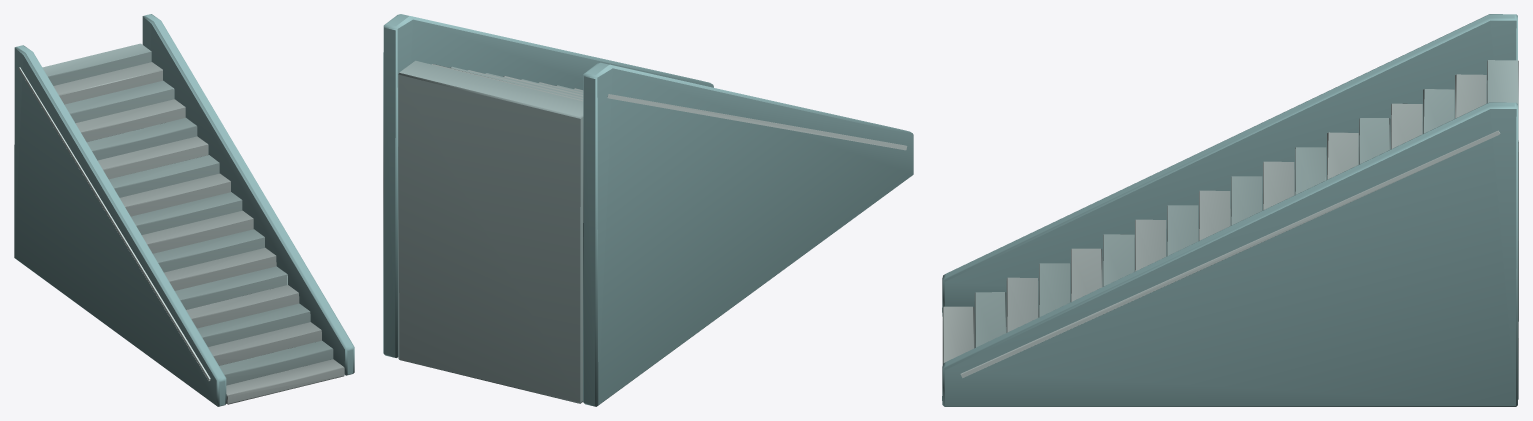
Rendered from stair_hi.lod.glb.
3 renders of one model, left to right at view 1: azimuth 30°, elevation 25°; view 2: azimuth 150°, elevation 25°; view 3: azimuth 270°, elevation 25°, orthographic. The views are drawn at different scales.
Parts seen in each view (by area): view 1: stair_hi; view 2: stair_hi; view 3: stair_hi.
Part boxes in pixels (x1,y1,x2,y2): stair_hi: (14,14,354,406); stair_hi: (383,14,913,406); stair_hi: (942,14,1518,406).
Size of the model in its own units: 4.79 by 6.9 by 12.01.
